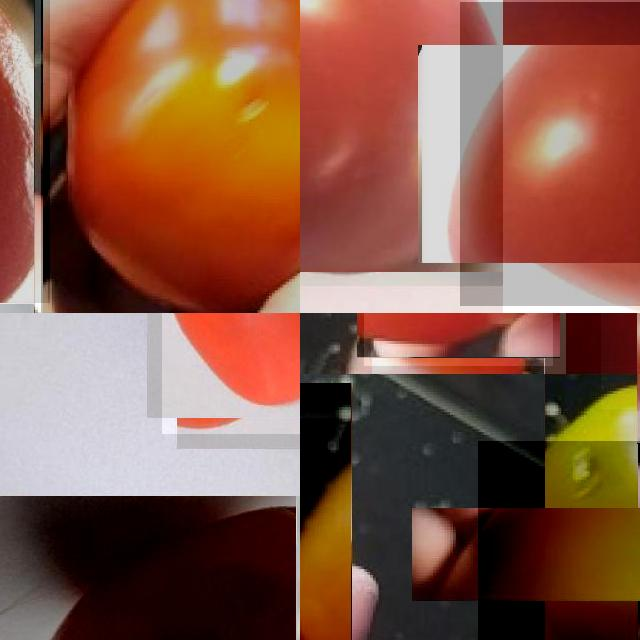0: (300, 0, 503, 272), (460, 2, 640, 306), (364, 313, 552, 366)
1: (478, 441, 640, 640), (300, 383, 351, 640)
Fresh Tomato: (41, 0, 300, 313), (161, 313, 300, 433)
Rotten Tomato: (0, 496, 296, 640)
